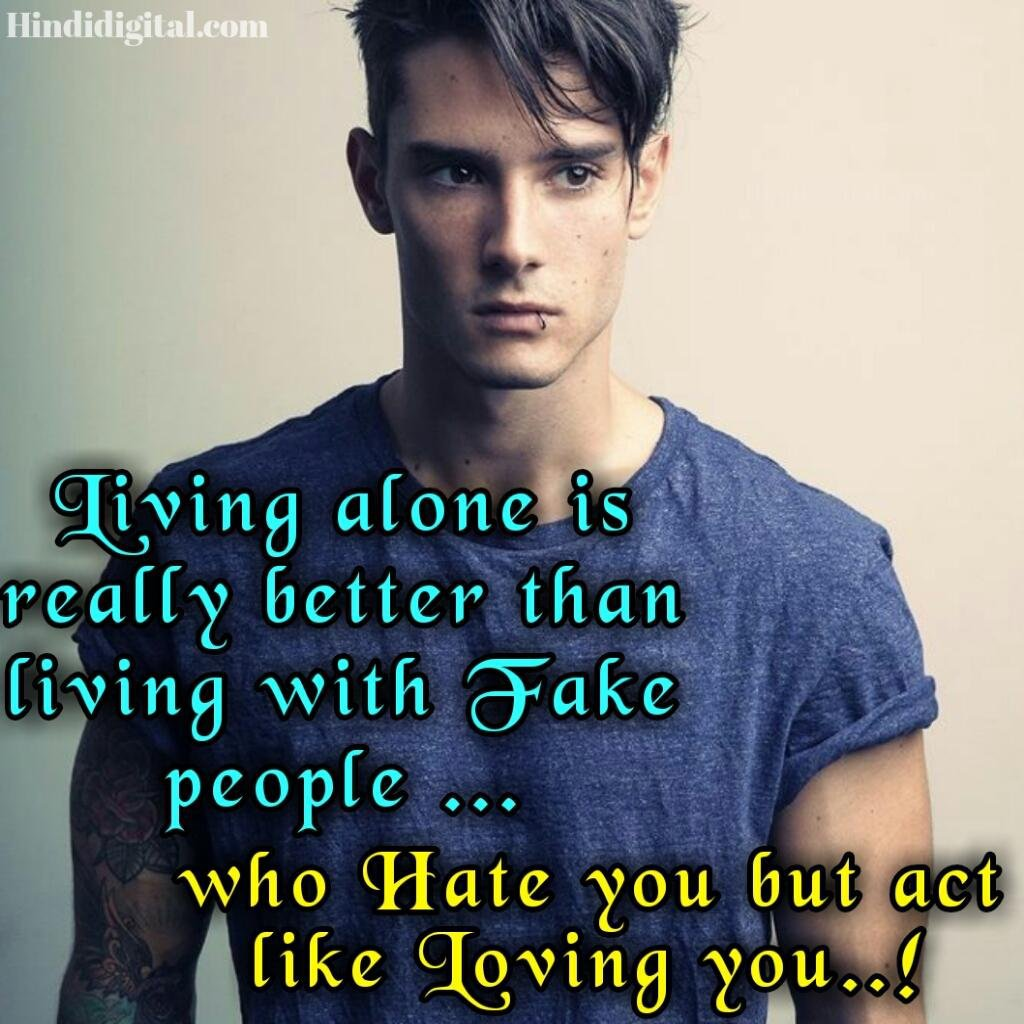noMask: (316, 4, 695, 396)
